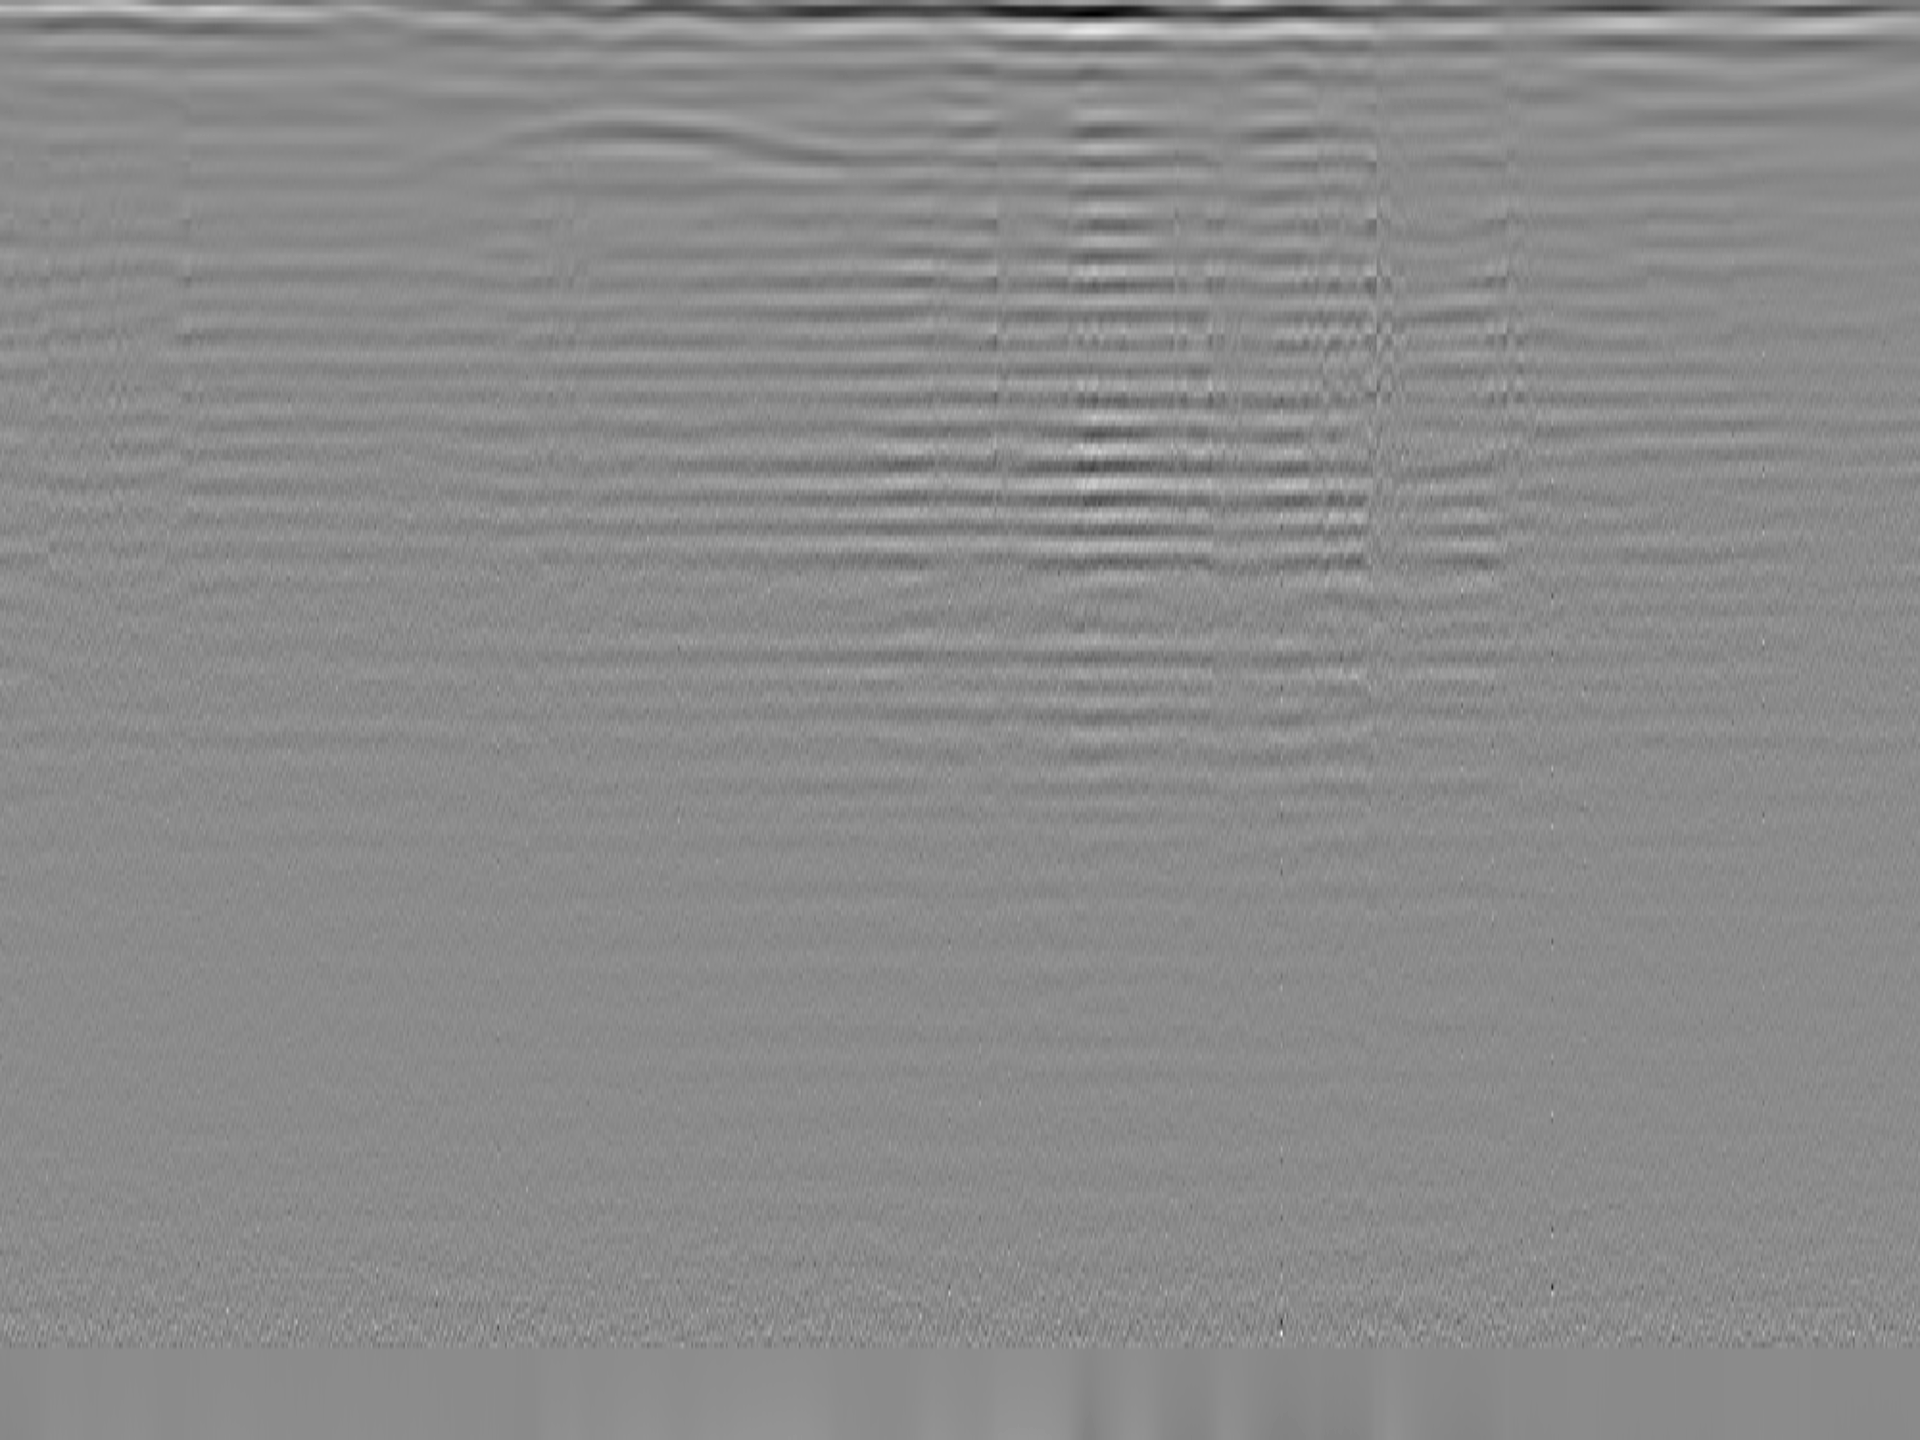Tunnel: (378, 106, 946, 182)
